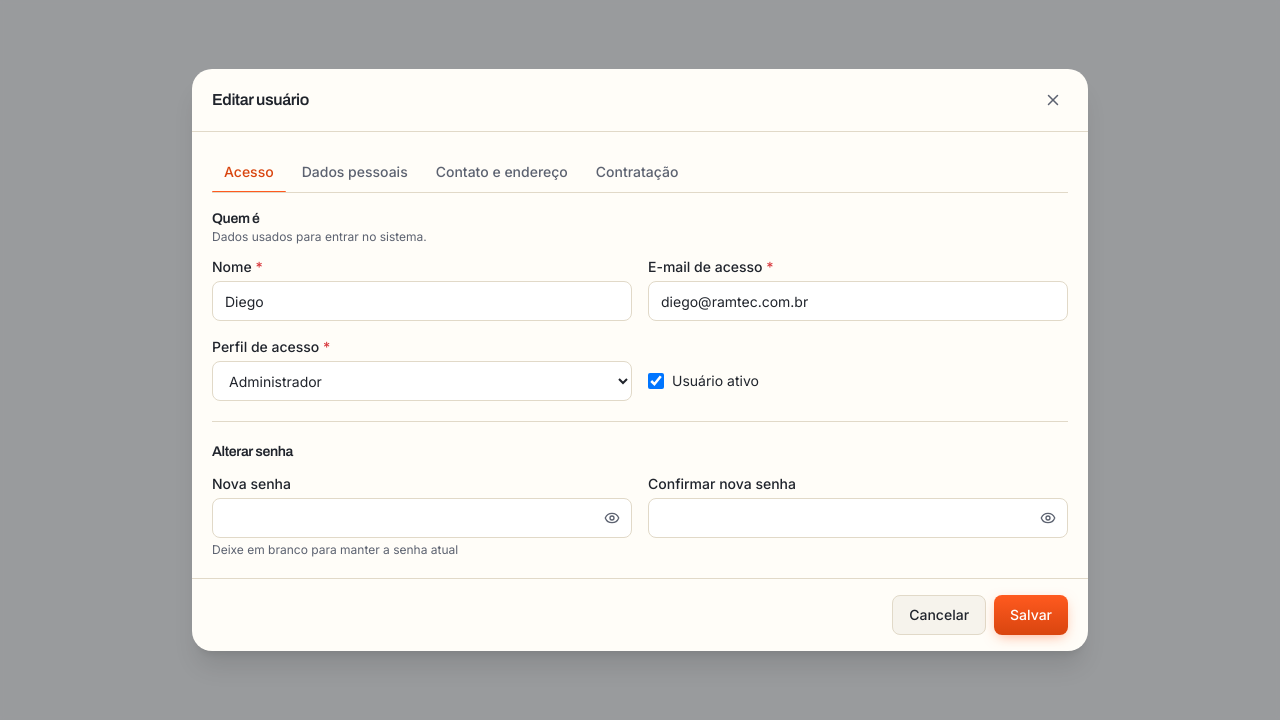
it: UsuarioFormModal › cadastro completo de colaborador (CLT) › preenche o formulário de edição com o cadastro completo vindo do GET /usuarios/{id}
Click the button "Dados pessoais" at point(355, 172), box [290,152,420,192]
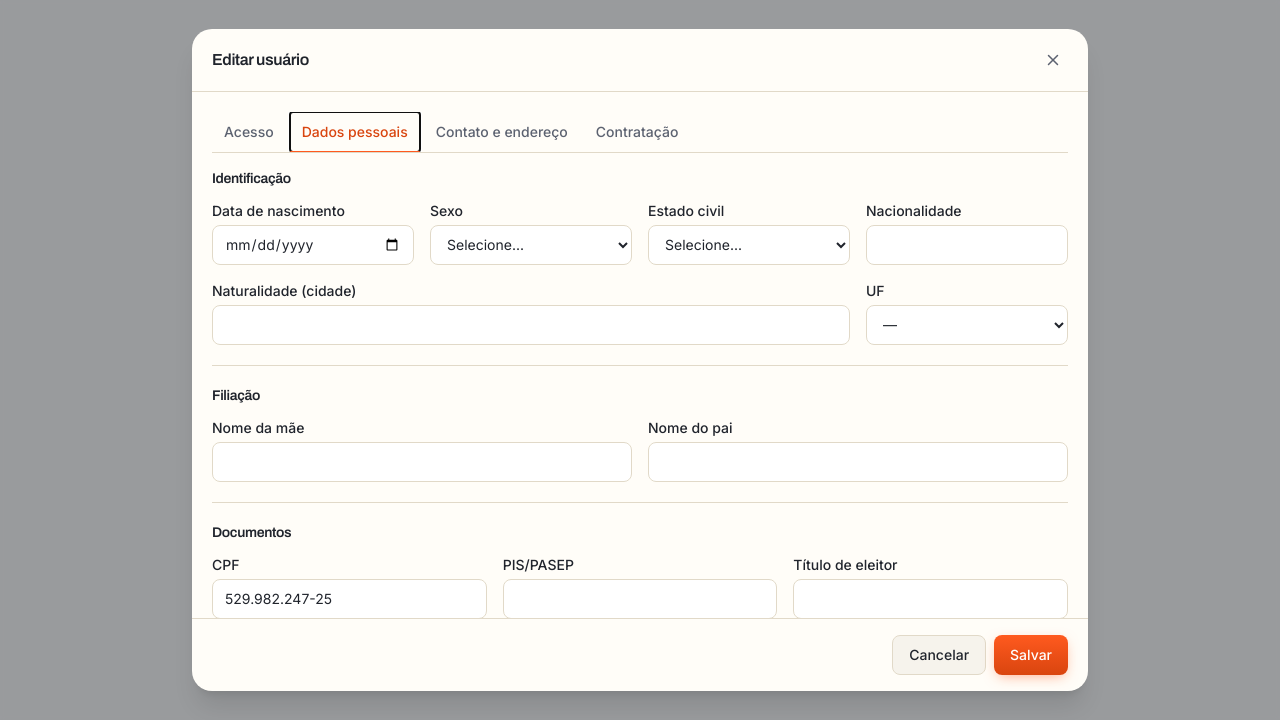
Result: the field labelled "CPF" holds "529.982.247-25" at [212,579,487,618]
Click the button "Contratação" at point(637, 132), box [584,112,690,152]
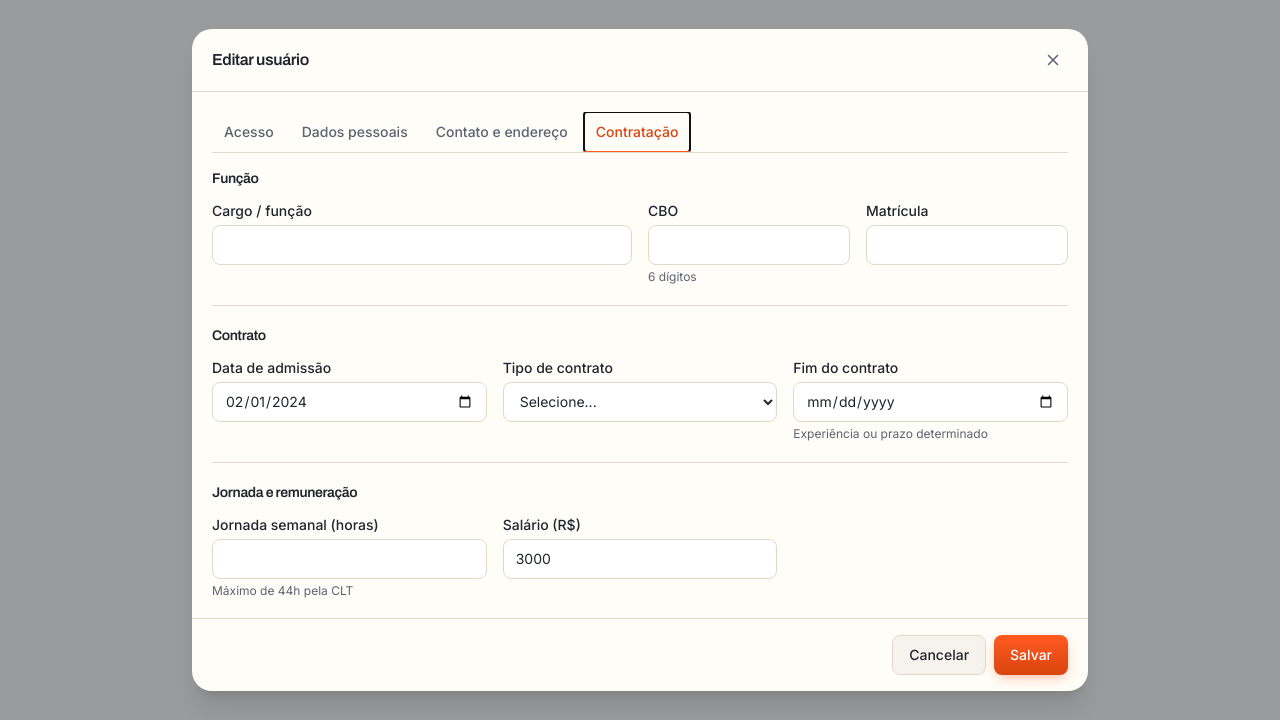
Result: the number field labelled "Salário (R$)" holds "3000" at [503,539,777,579]
Result: the date field labelled "Data de admissão" holds "2024-02-01" at [212,382,487,422]
